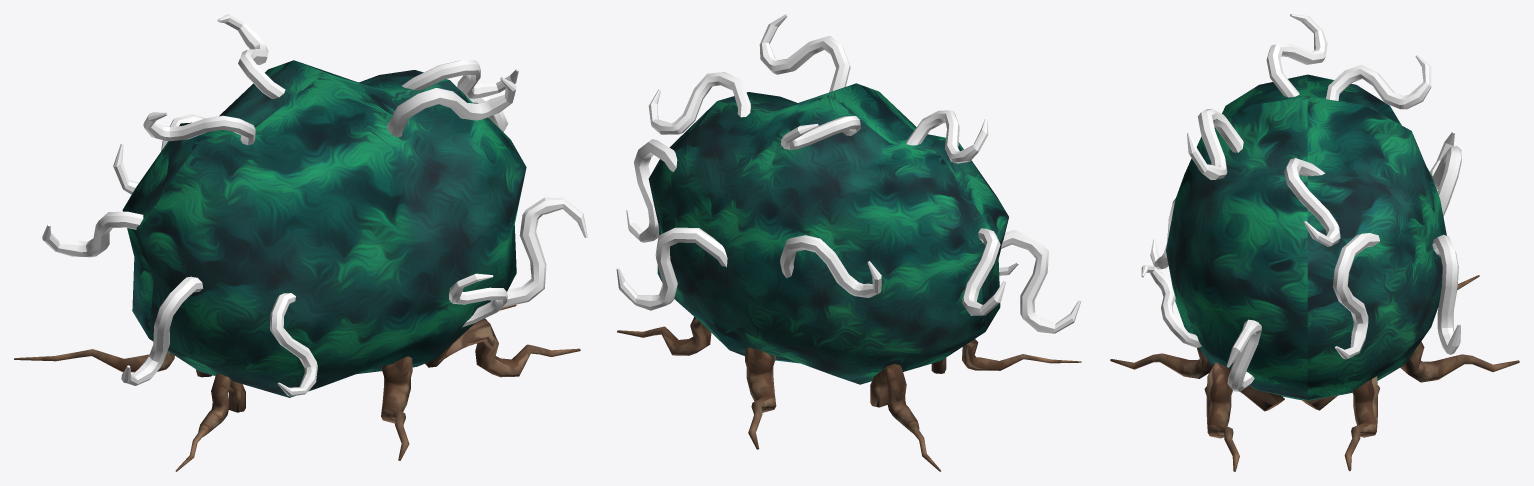
The model's file is Bush_Mutant_03.fbx.
3 views of the same model, side by side, from view 1: azimuth 30°, elevation 25°; view 2: azimuth 150°, elevation 25°; view 3: azimuth 270°, elevation 25° (orthographic). The views are drawn at different scales.
Parts seen in each view (by area): view 1: Bush_Mutant3; view 2: Bush_Mutant3; view 3: Bush_Mutant3.
Boxes of the visible parts, x1,y1,x2,y2 form: Bush_Mutant3: (14, 14, 587, 471); Bush_Mutant3: (616, 14, 1081, 471); Bush_Mutant3: (1110, 14, 1519, 471).
Size of the model in its own units: 214 by 145 by 178.
